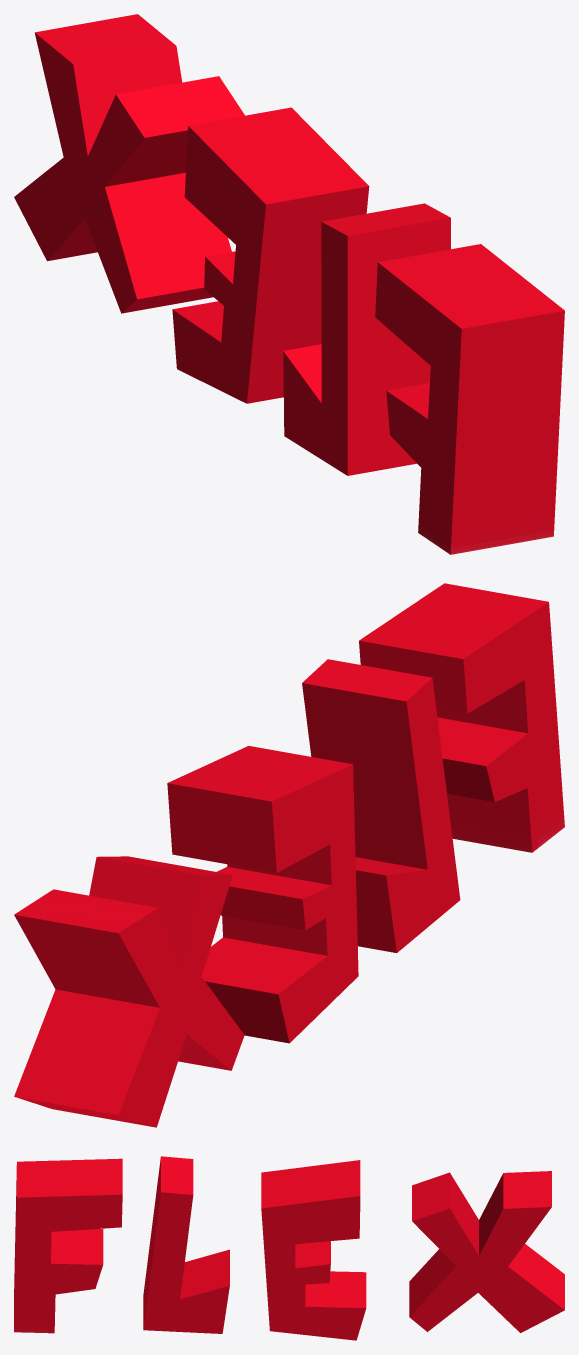
The model's file is Flex.dae.
The picture shows the model from 3 angles, top to bottom: view 1: azimuth 30°, elevation 25°; view 2: azimuth 150°, elevation 25°; view 3: azimuth 270°, elevation 25°; orthographic projection. The views are drawn at different scales.
Visible parts, largest first — view 1: Plane; view 2: Plane; view 3: Plane.
Part boxes in pixels (<box>): Plane: <box>14,14,564,554</box>; Plane: <box>14,583,564,1127</box>; Plane: <box>14,1156,564,1340</box>.
Size of the model in its own units: 0.7807 by 5.02 by 1.58.
Materials: 1 (1 with a texture image).
